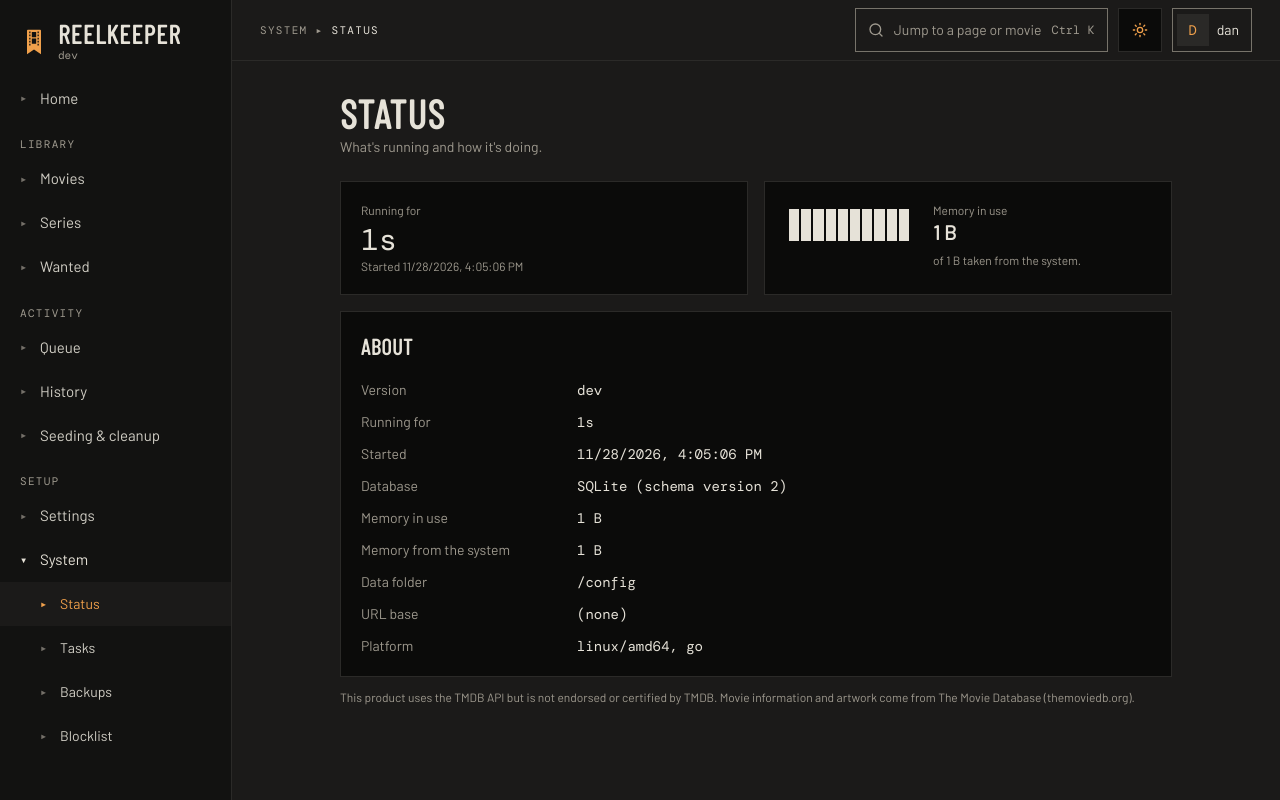
Test: account menu › offers linking single sign-on to a password account
The image size is (1280, 800).
Click the button with aria-label "Account menu" at (1212, 30), box [1172,8,1252,52]
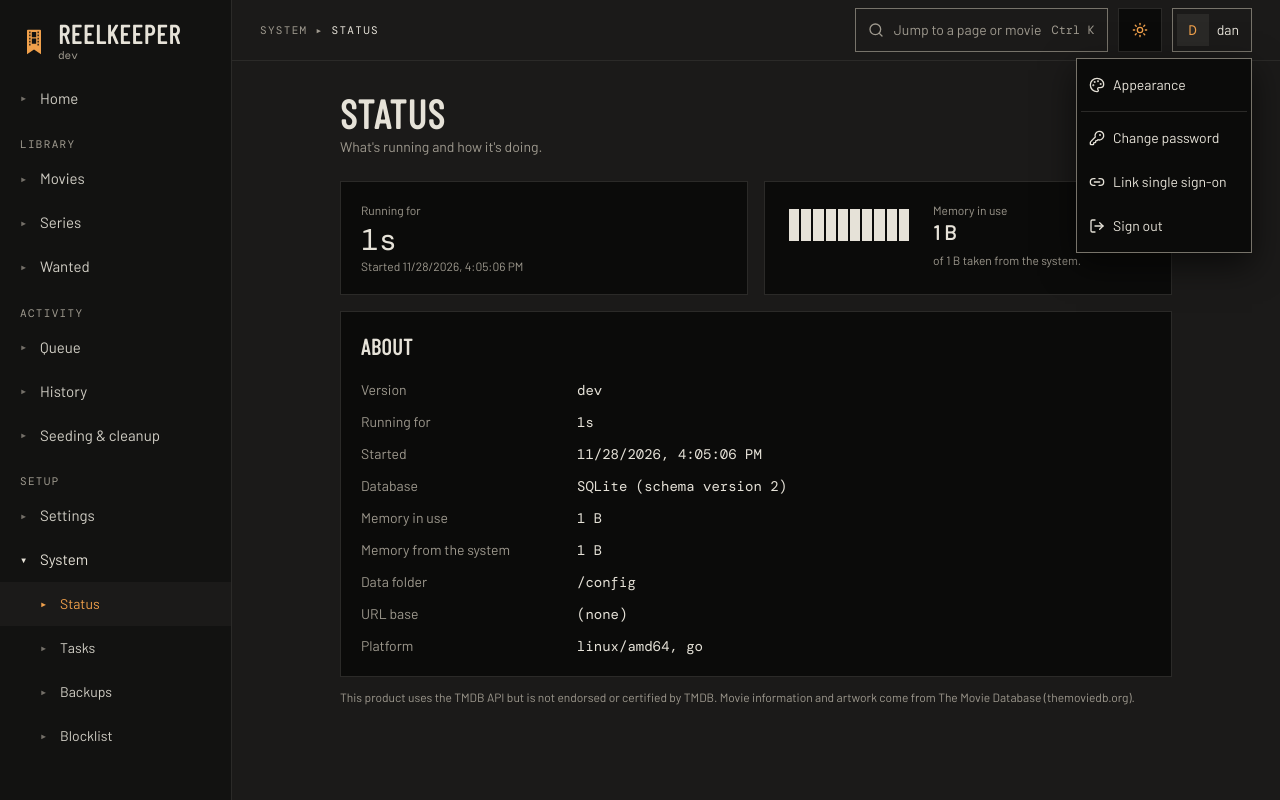
expect the menu item "Link single sign-on" is shown: met, box [1089,173,1227,190]
